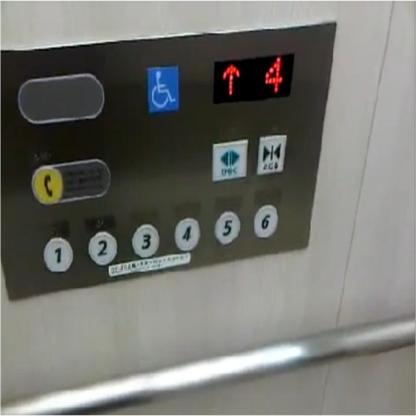1: (42, 234, 74, 274)
2: (87, 228, 117, 266)
3: (130, 223, 161, 258)
4: (174, 214, 201, 256)
5: (212, 209, 241, 246)
6: (252, 204, 277, 240)
CH: (146, 64, 179, 116)
call: (30, 163, 63, 205)
close: (257, 133, 287, 178)
led: (212, 52, 293, 104)
open: (210, 139, 247, 179)
